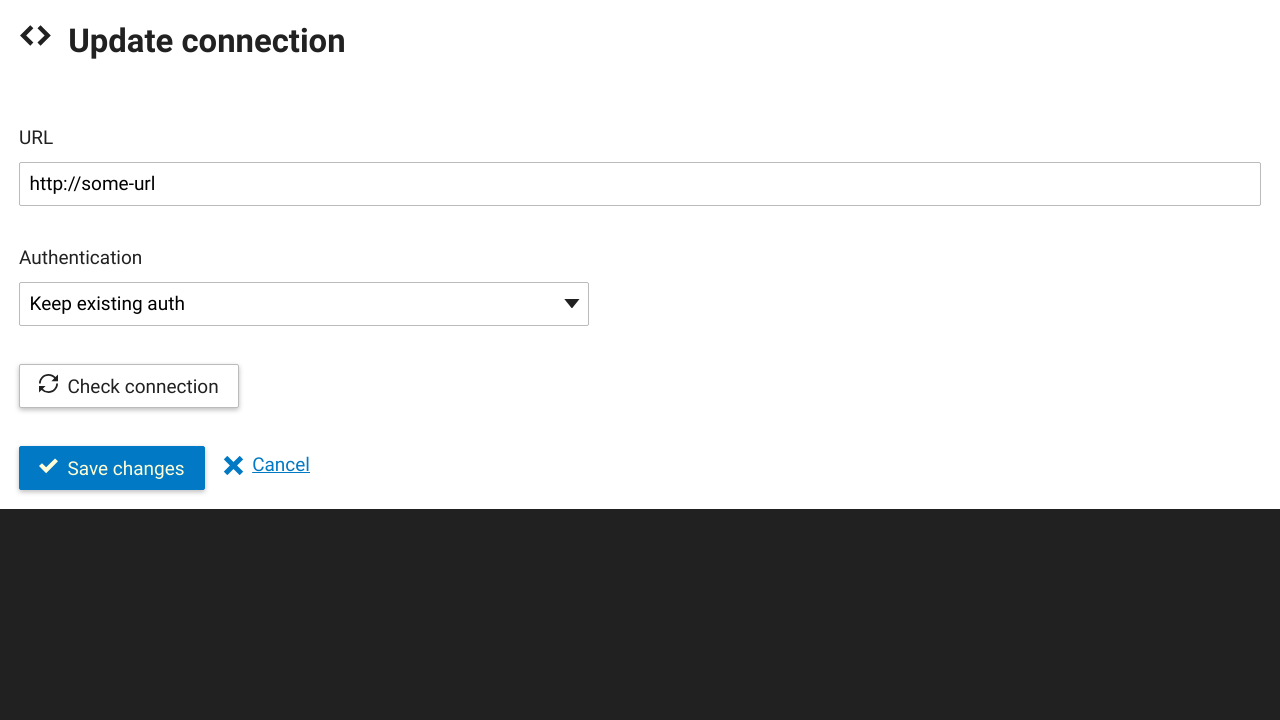
Test case: validation errors › should display an error if non http(s) URL is entered
The width and height of the screenshot is (1280, 720).
Replace the text in the field labelled "URL" with "file://some-file" at [640, 184], box [19, 162, 1261, 206]
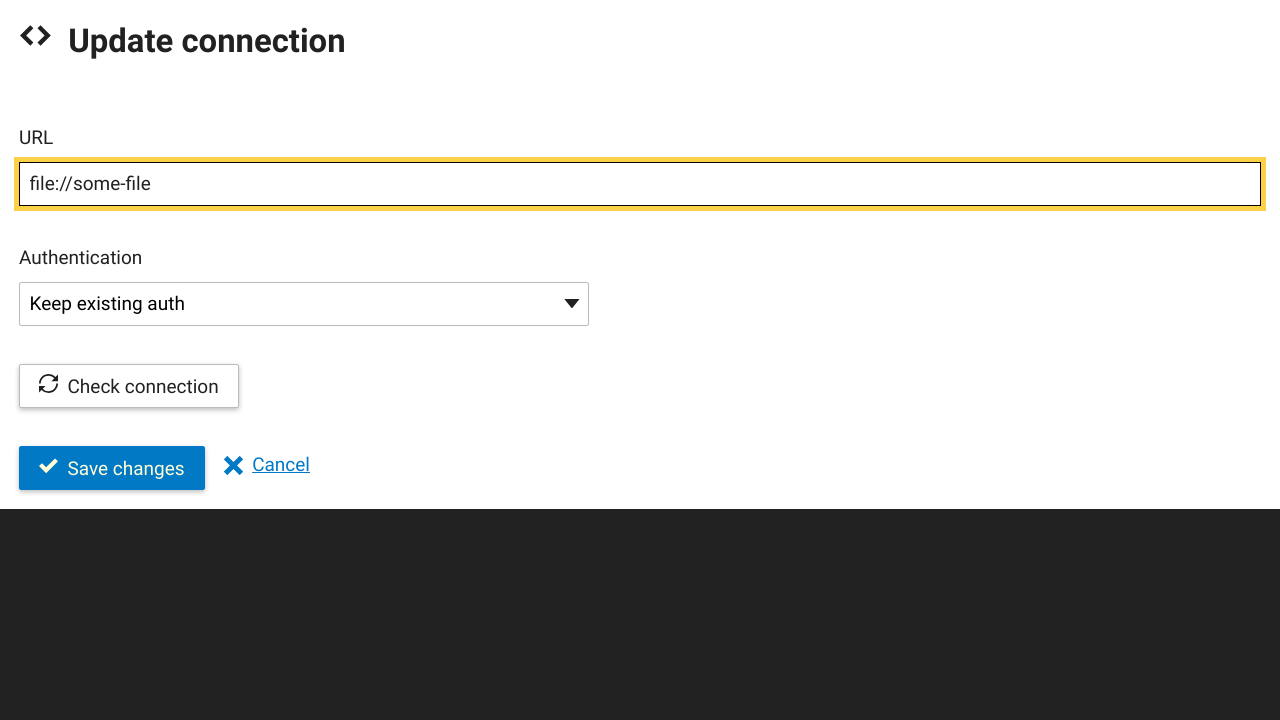
Click the button "Save changes".
click(112, 468)  # box [19, 446, 205, 490]
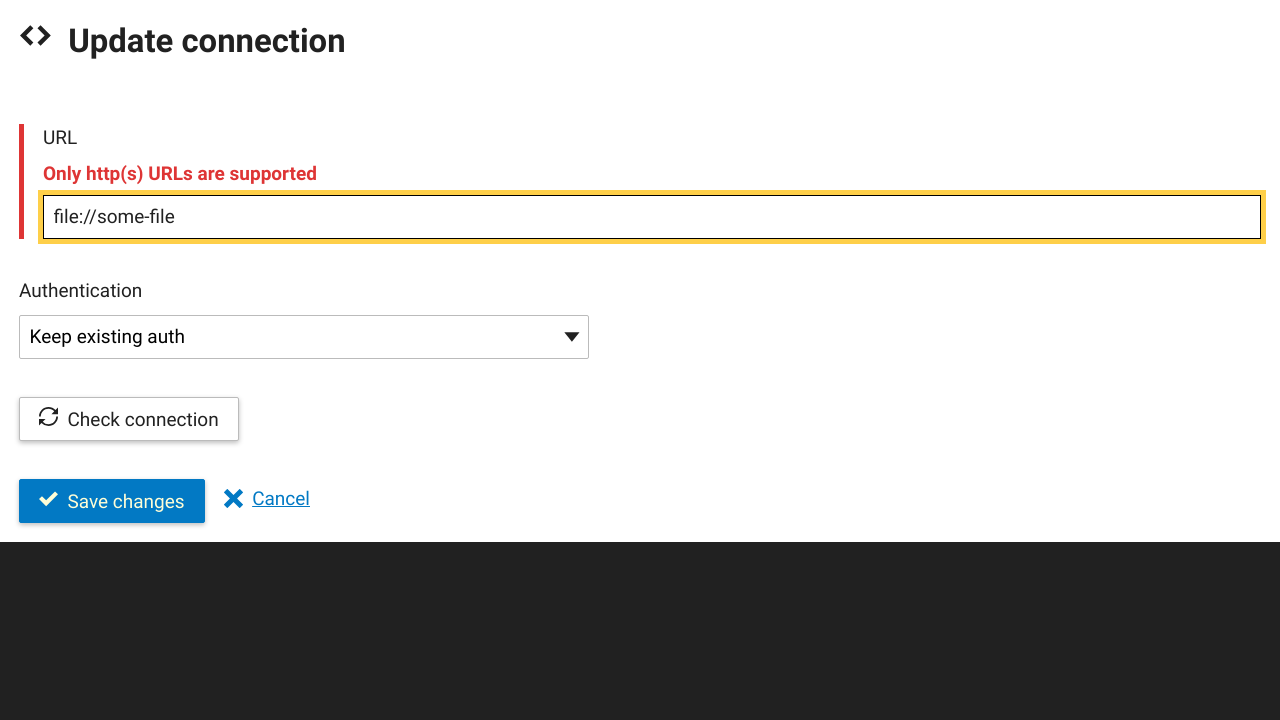
Now the text "Only http(s) URLs are supported" is shown, box [42, 161, 317, 185]
